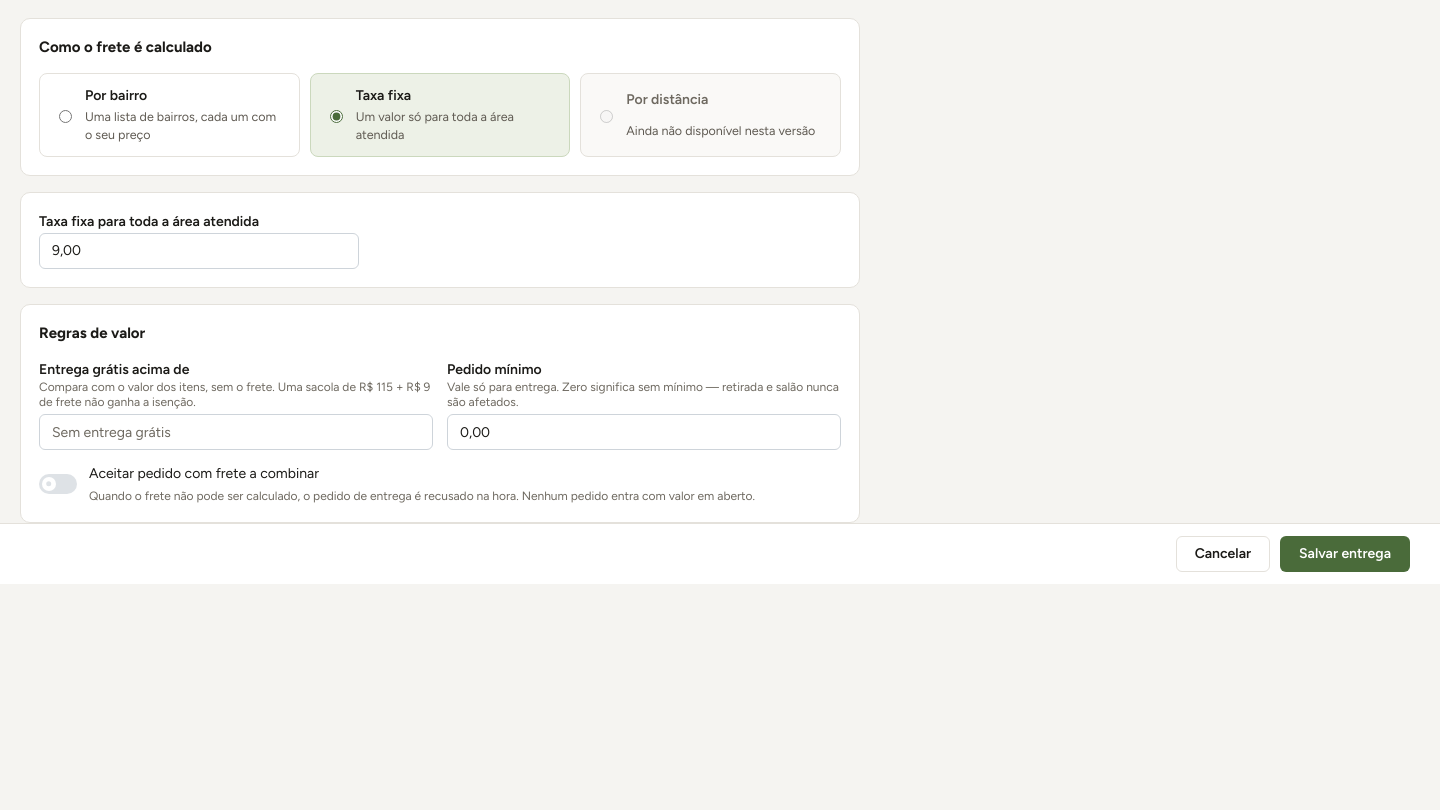
Test: DeliveryPage › escolher 'por bairro' sem salvar não liga o aviso do topo
Click the radio button labelled "Por bairro" at (66, 116), box [59, 110, 72, 123]
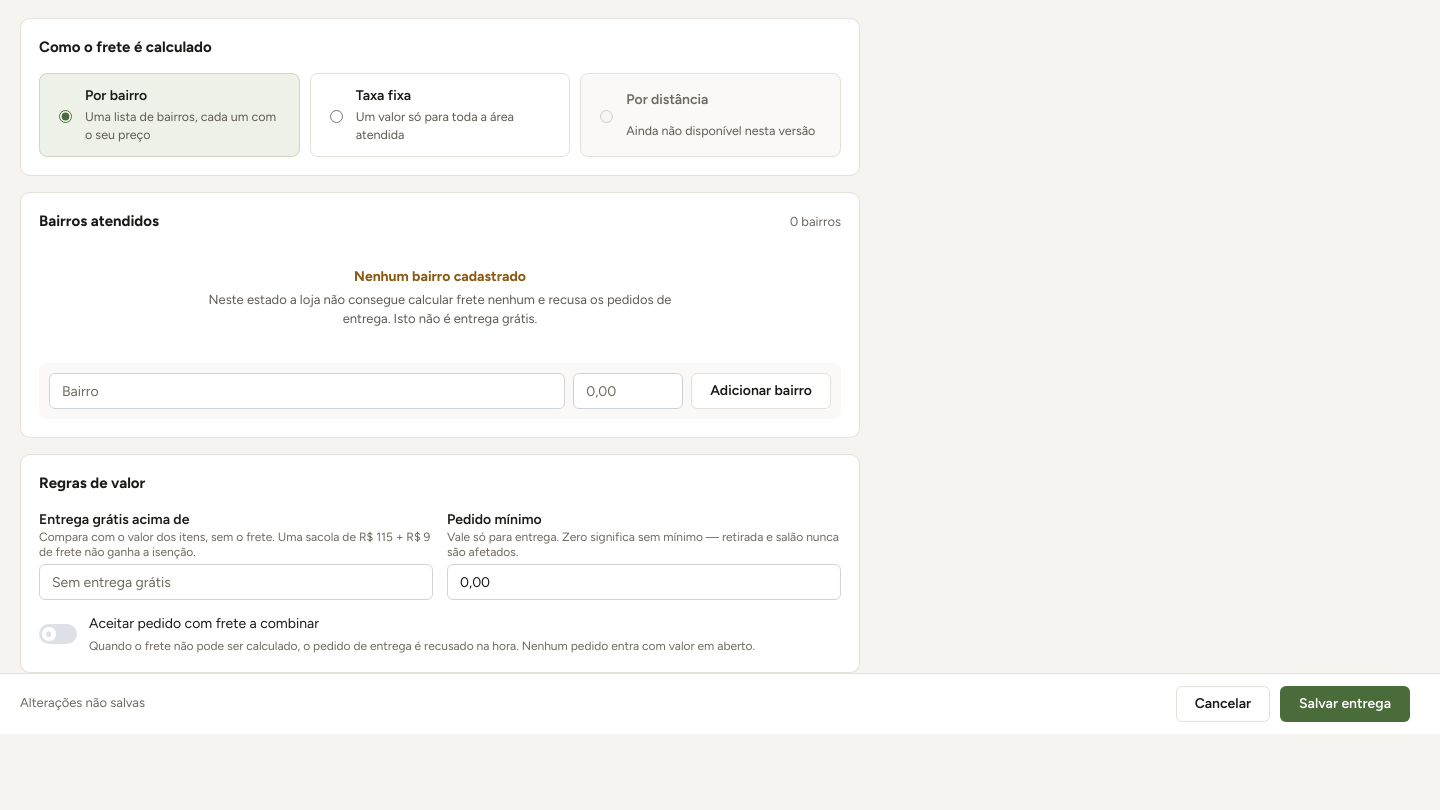
Result: the text "Nenhum bairro cadastrado" is shown at [354, 267, 526, 287]
